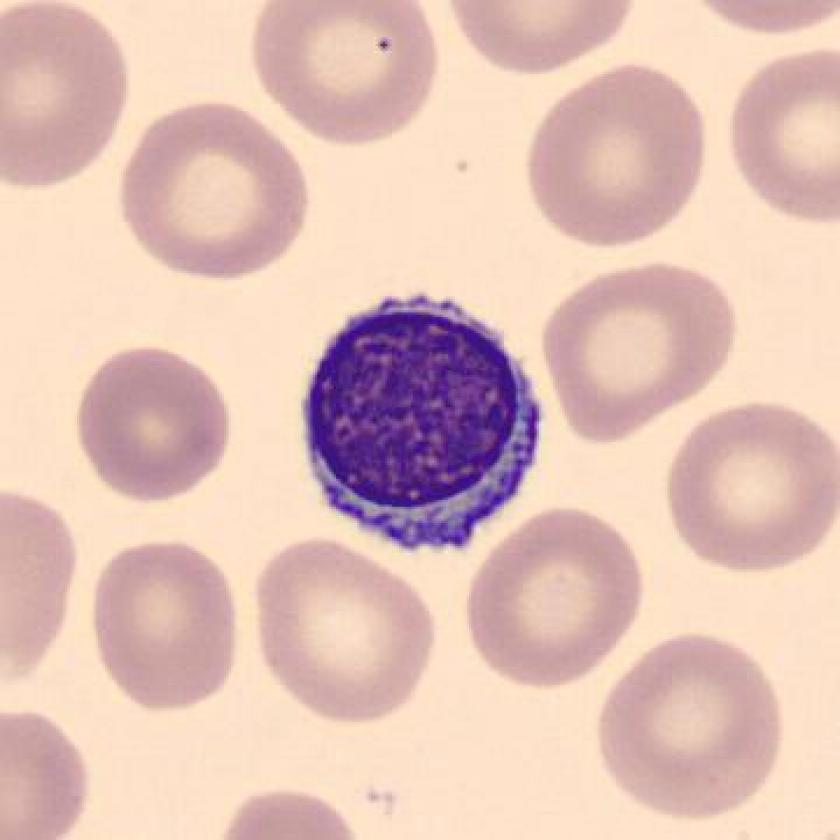lymphocyte: (281, 279, 561, 573)
